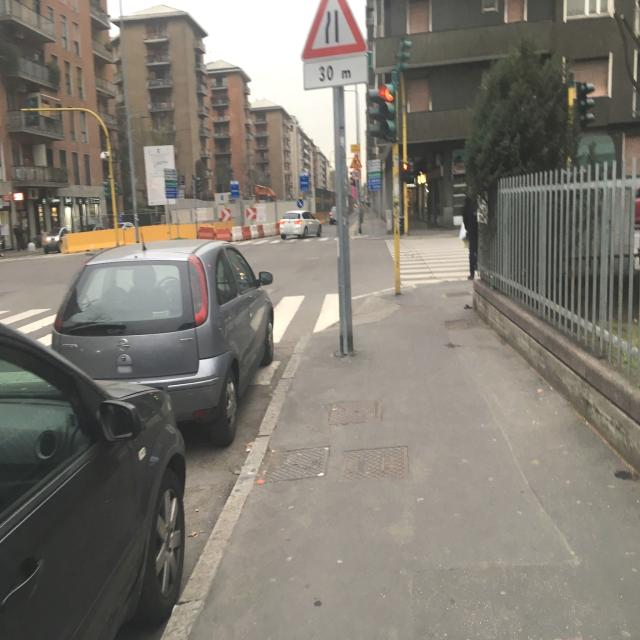car: (0, 310, 188, 640), (49, 238, 276, 449), (279, 210, 323, 238), (42, 226, 70, 254)
